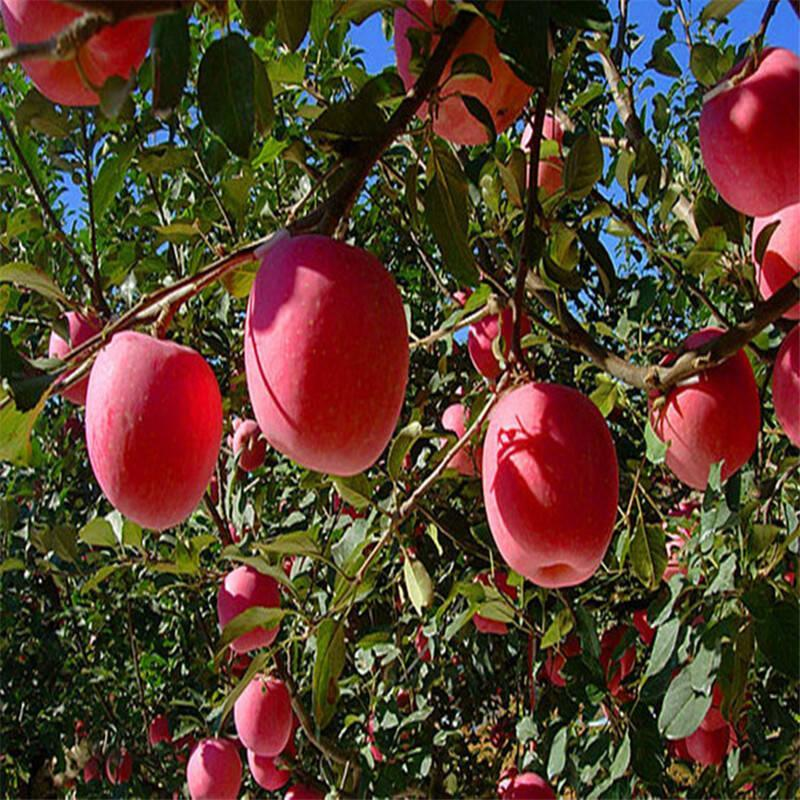apple: (240, 229, 407, 480), (478, 381, 623, 590), (82, 329, 225, 534), (6, 7, 163, 112), (646, 346, 757, 485)
